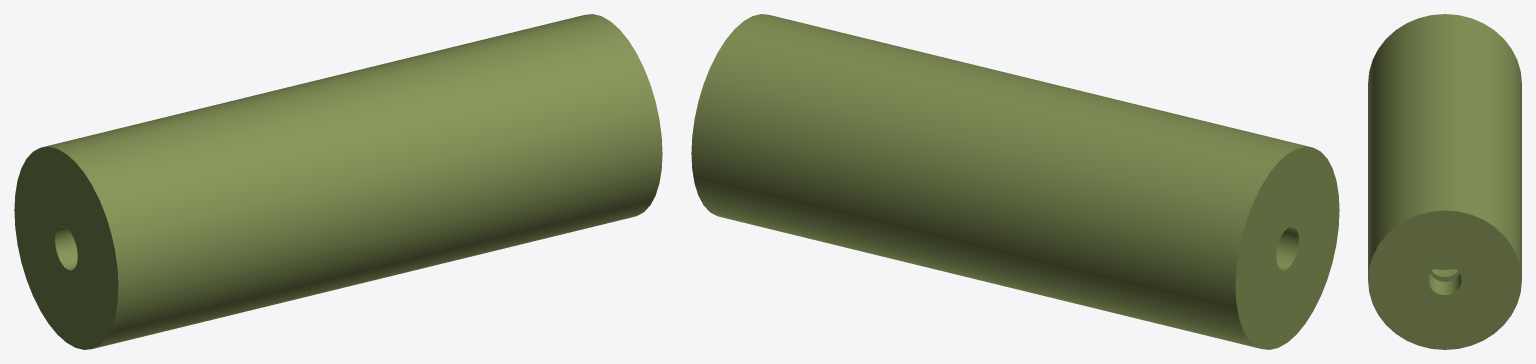
File: ridservicesUnWrap.FBX
3 views of the same model, side by side, from view 1: azimuth 30°, elevation 25°; view 2: azimuth 150°, elevation 25°; view 3: azimuth 270°, elevation 25° (orthographic). The views are drawn at different scales.
Parts seen in each view (by area): view 1: ridservicesUnWrap; view 2: ridservicesUnWrap; view 3: ridservicesUnWrap.
Boxes of the visible parts, left/top/right/bottom form: ridservicesUnWrap: left=14, top=14, right=662, bottom=349; ridservicesUnWrap: left=691, top=14, right=1339, bottom=349; ridservicesUnWrap: left=1368, top=14, right=1521, bottom=349.
Size of the model in its own units: 695 by 230 by 230.
